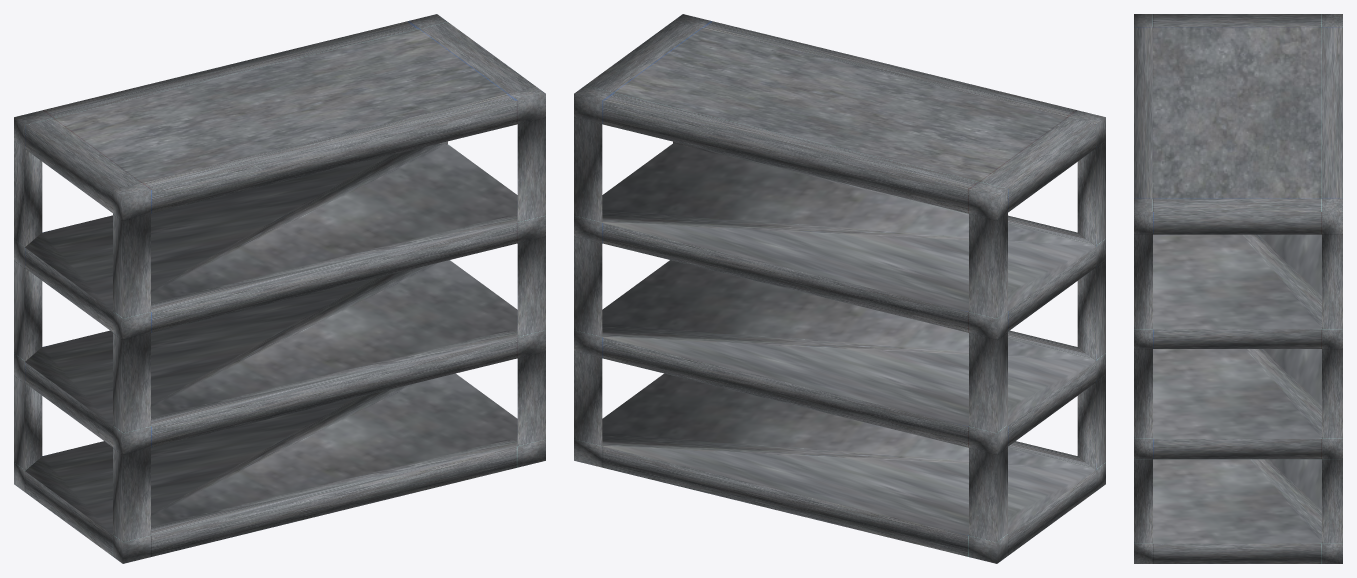
Rendered from metal_shelf.fbx.
3 views of the same model, side by side, from view 1: azimuth 30°, elevation 25°; view 2: azimuth 150°, elevation 25°; view 3: azimuth 270°, elevation 25° (orthographic). The views are drawn at different scales.
Parts seen in each view (by area): view 1: metal_shelf; view 2: metal_shelf; view 3: metal_shelf.
Boxes of the visible parts, x1,y1,x2,y2 form: metal_shelf: (14, 14, 545, 563); metal_shelf: (574, 14, 1105, 563); metal_shelf: (1134, 14, 1342, 563).
Bounding box in the file's own units: 320 × 265 × 143.
Materials: 1 (1 with a texture image).
